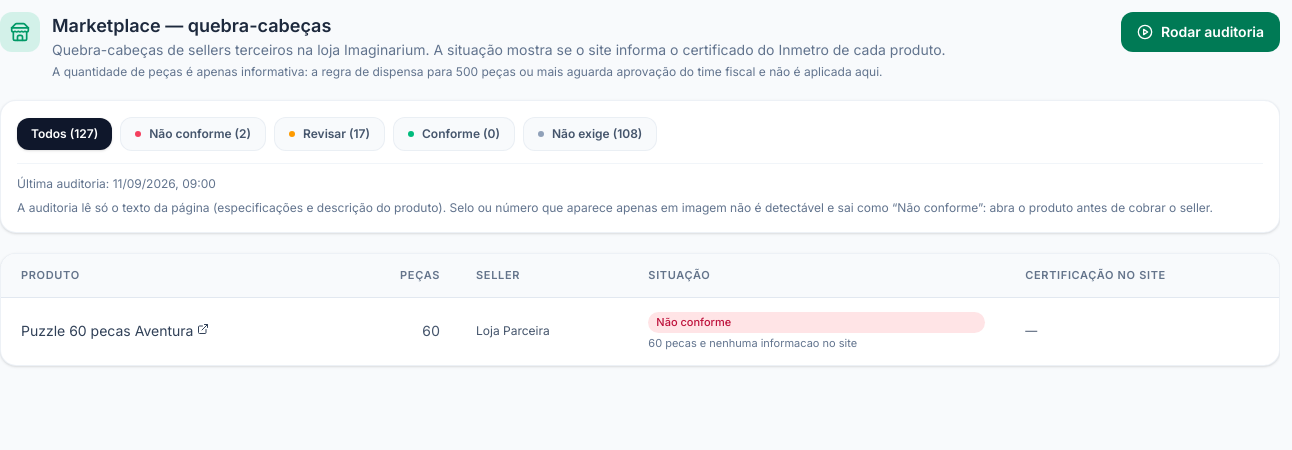
Test case: CertMarketplacePage › mostra o erro legivel da API quando a categoria veio vazia
Click the button "Rodar auditoria" at (1200, 32), box left=1121, top=12, right=1280, bottom=52
Wait 3100 ms
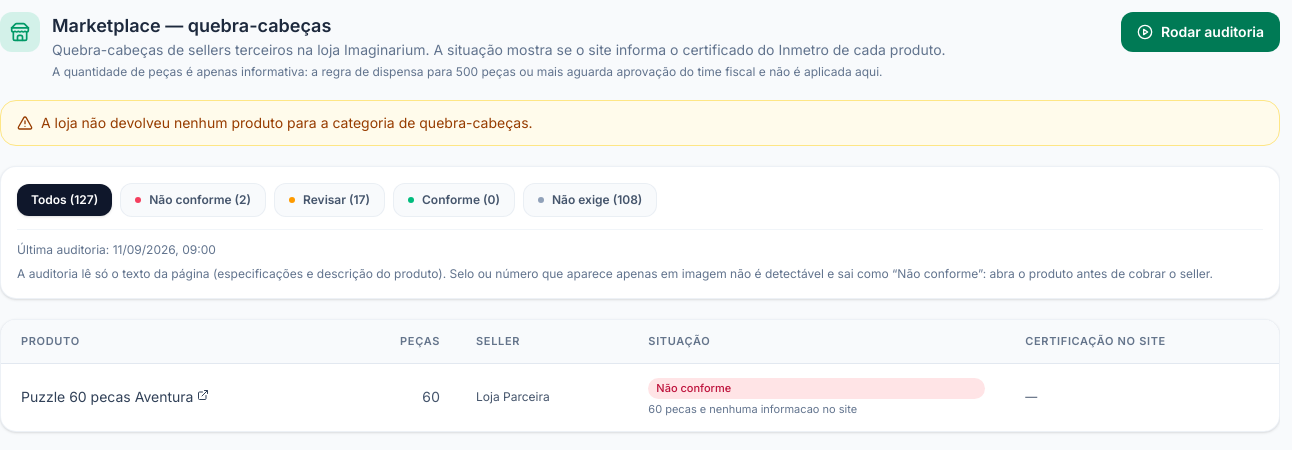
Result: the message shows "não devolveu nenhum produto" at left=41, top=114, right=533, bottom=131
